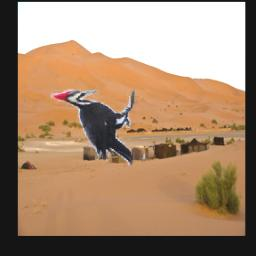Woodpecker: (51, 89, 136, 165)
